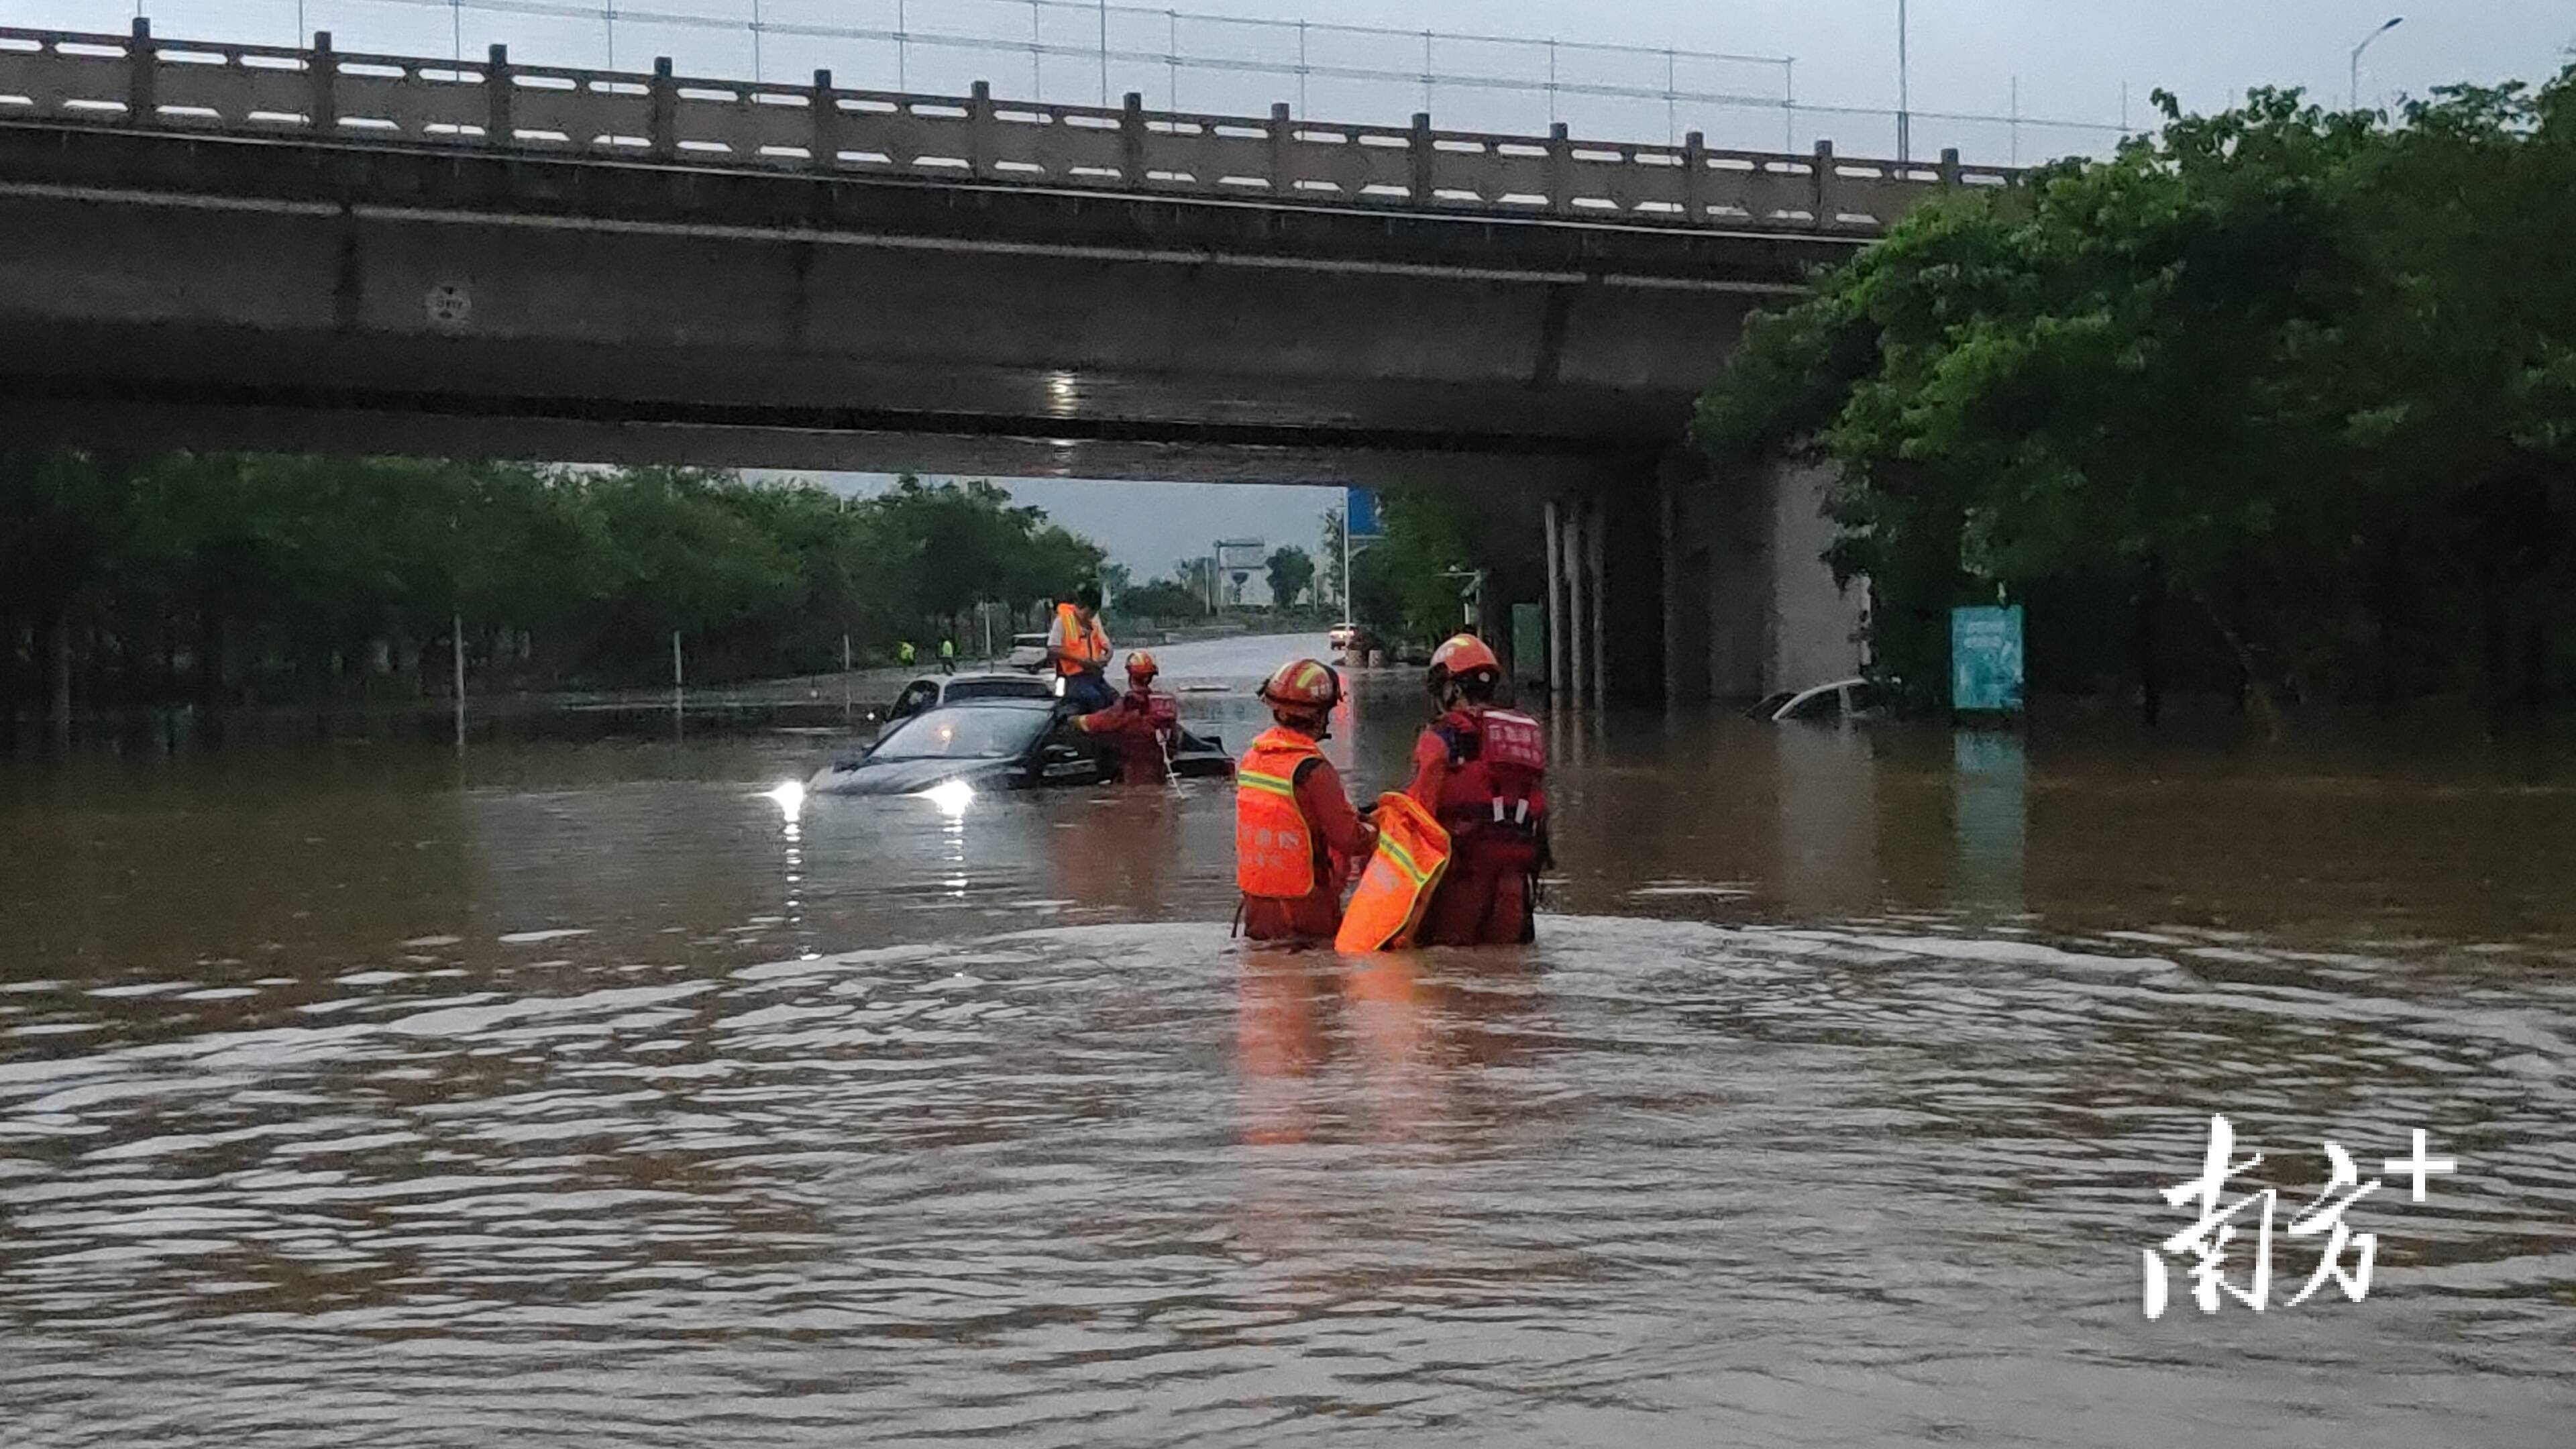puddle: (12, 778, 2576, 1435), (11, 938, 2572, 1447)
